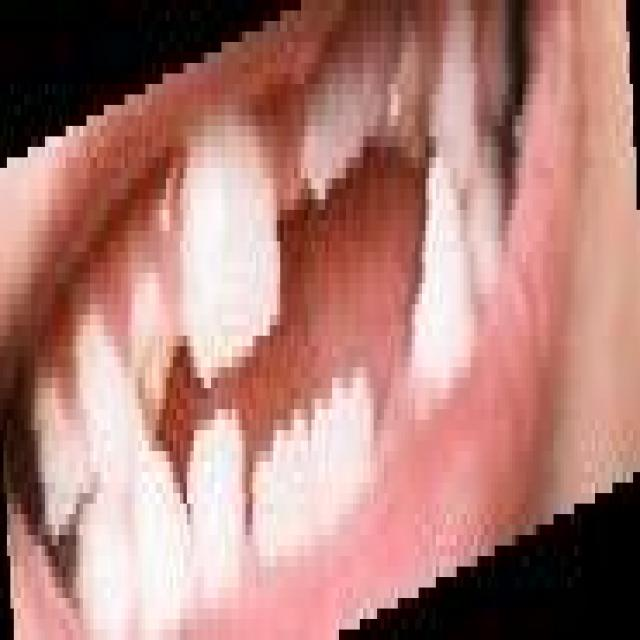caries: (123, 263, 184, 447)
